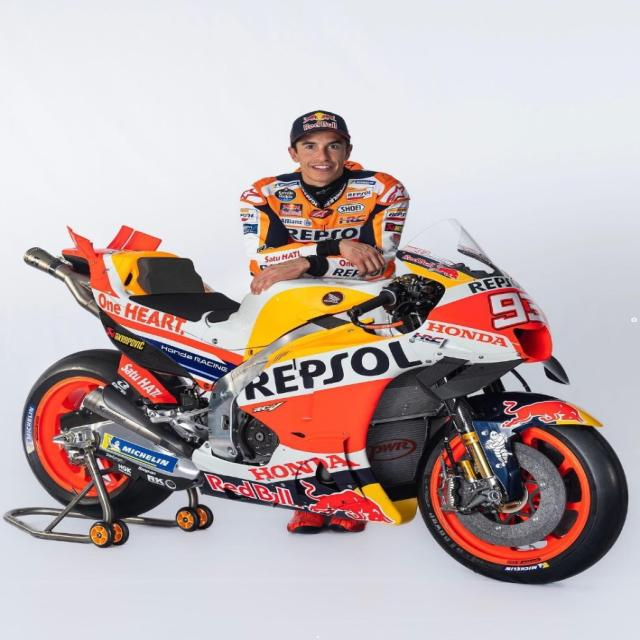illegal_helmet: (285, 106, 356, 185)
